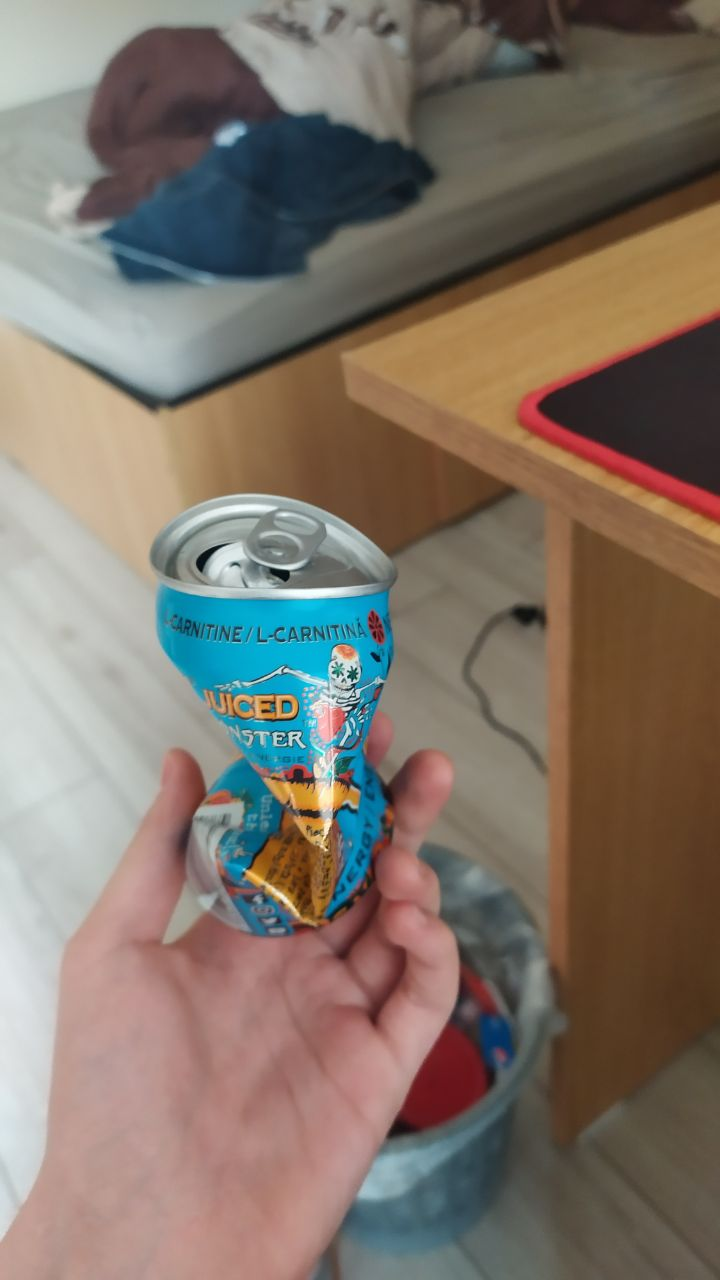Can: (140, 488, 396, 939)
